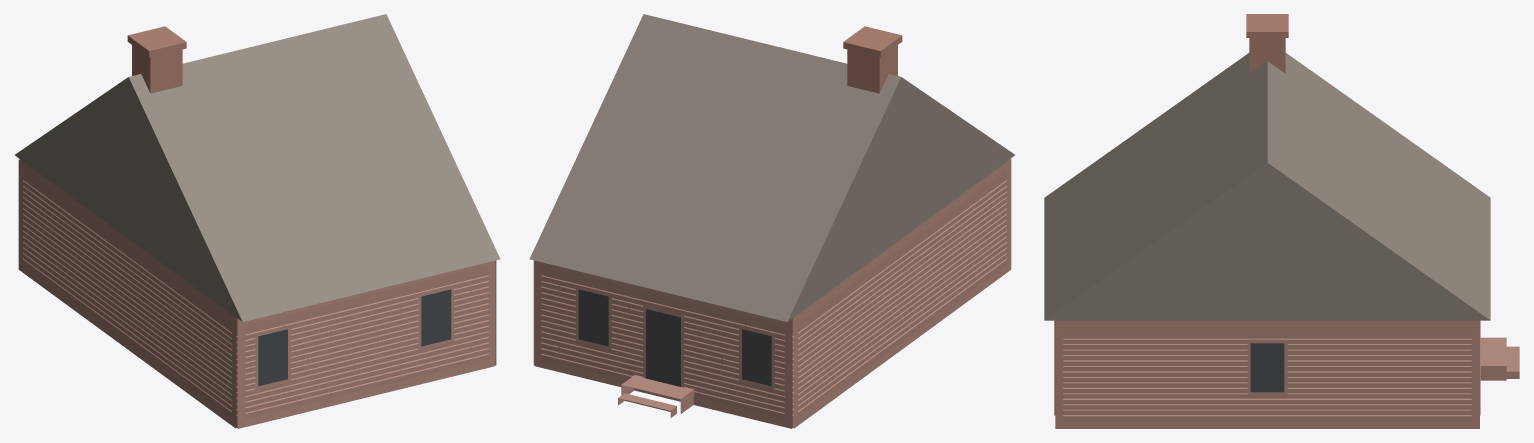
The model's file is recon_1835_blk_south_water_lasalle_d5_01__inferred_1835.glb.
3 views of the same model, side by side, from view 1: azimuth 30°, elevation 25°; view 2: azimuth 150°, elevation 25°; view 3: azimuth 270°, elevation 25° (orthographic). The views are drawn at different scales.
Parts seen in each view (by area): view 1: recon_1835_blk_south_water_lasalle_d5_01__inferred_1835; view 2: recon_1835_blk_south_water_lasalle_d5_01__inferred_1835; view 3: recon_1835_blk_south_water_lasalle_d5_01__inferred_1835.
Part boxes in pixels (x1=…): recon_1835_blk_south_water_lasalle_d5_01__inferred_1835: x1=15, y1=14, x2=500, y2=428; recon_1835_blk_south_water_lasalle_d5_01__inferred_1835: x1=529, y1=14, x2=1014, y2=428; recon_1835_blk_south_water_lasalle_d5_01__inferred_1835: x1=1044, y1=14, x2=1519, y2=428.
Bounding box in the file's own units: 6.83 × 7.58 × 11.02.
